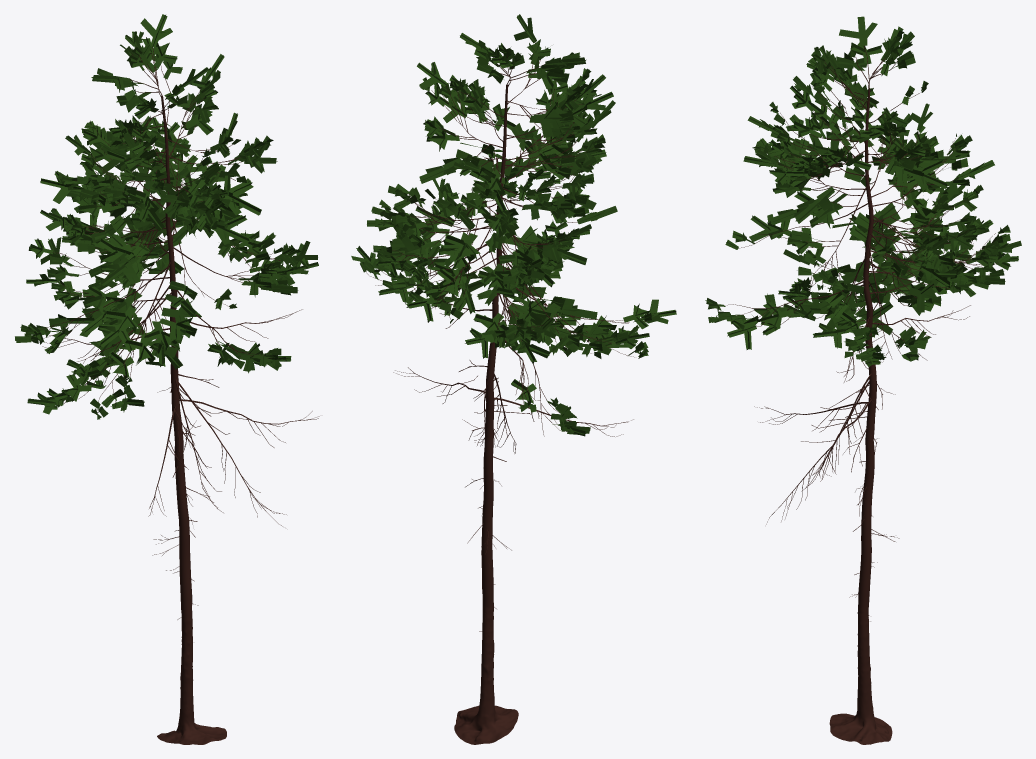
Rendered from fir_c_lod0.obj.
3 renders of one model, left to right at view 1: azimuth 30°, elevation 25°; view 2: azimuth 150°, elevation 25°; view 3: azimuth 270°, elevation 25°, orthographic. The views are drawn at different scales.
Parts seen in each view (by area): view 1: fir_c_lod0; view 2: fir_c_lod0; view 3: fir_c_lod0.
Part boxes in pixels (bbox=[...]): fir_c_lod0: bbox=[15, 14, 319, 744]; fir_c_lod0: bbox=[351, 14, 676, 744]; fir_c_lod0: bbox=[705, 16, 1021, 744].
Bounding box in the file's own units: 250 × 573 × 236.
